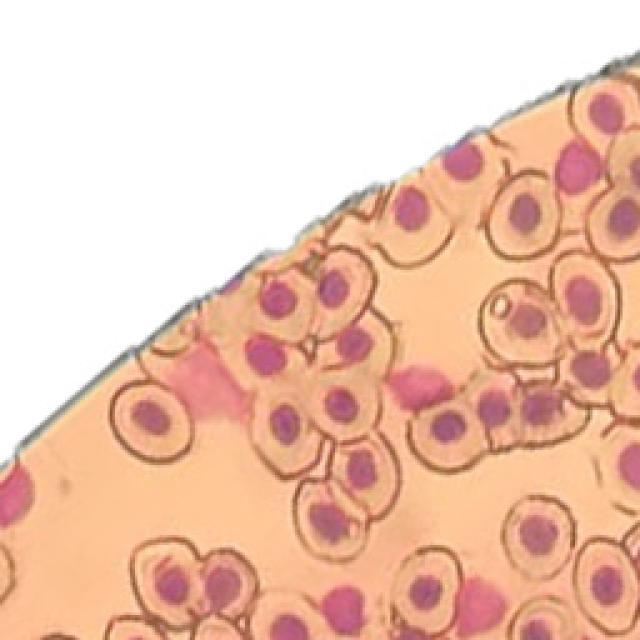RBC: (248, 378, 325, 480), (479, 280, 564, 367), (210, 318, 308, 393), (371, 179, 452, 267), (110, 381, 192, 462), (552, 252, 618, 350), (488, 171, 560, 259), (131, 539, 202, 628), (235, 268, 317, 344), (574, 539, 639, 634), (307, 364, 384, 444), (294, 480, 370, 561), (392, 546, 461, 635), (502, 495, 575, 579), (311, 307, 394, 380), (409, 396, 489, 471), (463, 366, 529, 456), (331, 432, 400, 518), (570, 72, 640, 155), (558, 328, 626, 409), (314, 249, 374, 339), (520, 377, 592, 450), (248, 587, 343, 640), (204, 546, 260, 621), (586, 189, 640, 259), (599, 424, 640, 512), (509, 598, 576, 640), (610, 344, 640, 420), (609, 129, 640, 189)
WBC: (388, 365, 454, 411), (458, 578, 506, 636), (555, 136, 602, 194), (0, 464, 34, 526), (322, 588, 364, 635), (444, 141, 482, 180)
